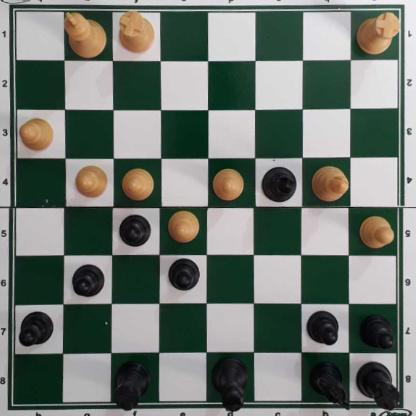black-bishop: (261, 167, 298, 203)
black-king: (210, 357, 250, 413)
black-knight: (310, 365, 351, 410)
black-pawn: (360, 315, 397, 353), (18, 311, 54, 349), (305, 310, 340, 346), (168, 259, 202, 293), (72, 265, 105, 300), (119, 215, 151, 250)
black-rook: (356, 361, 402, 414), (113, 361, 152, 412)
white-bishop: (312, 167, 349, 203)
white-king: (63, 11, 108, 60)
white-pawn: (19, 117, 56, 153), (75, 165, 109, 201), (167, 212, 203, 245), (359, 217, 395, 250), (122, 169, 155, 203), (213, 170, 246, 202)
white-rook: (355, 14, 400, 57), (118, 12, 157, 55)
